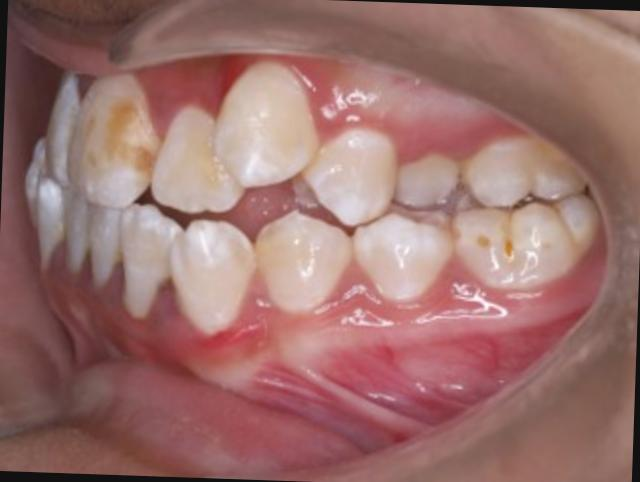canine class II 1/4: (168, 50, 355, 353)
molar class I: (440, 128, 608, 322)
